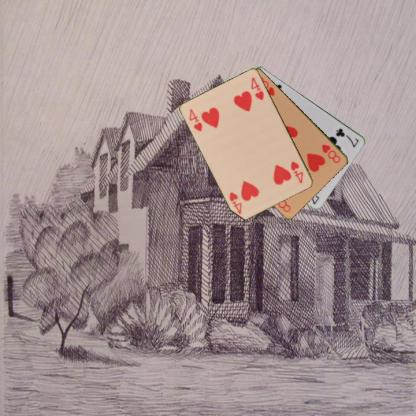4h: (187, 106, 204, 133), (288, 158, 304, 185)
7c: (333, 126, 360, 148)
8h: (320, 142, 342, 165)
